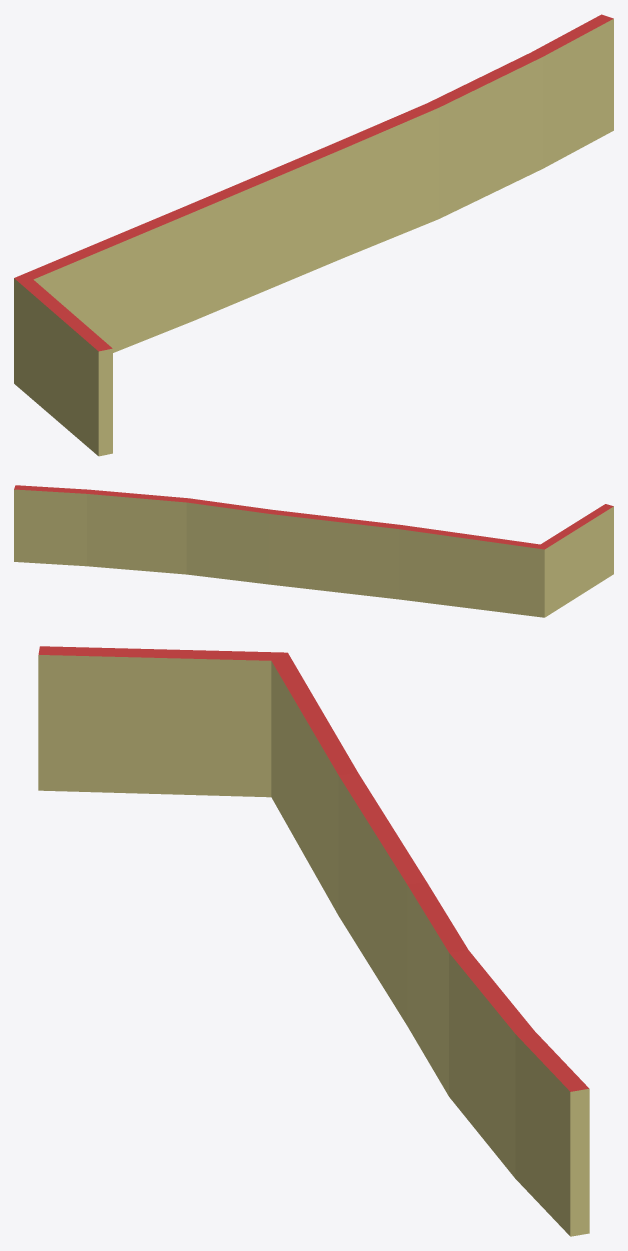
The picture shows the model from 3 angles, top to bottom: view 1: azimuth 30°, elevation 25°; view 2: azimuth 150°, elevation 25°; view 3: azimuth 270°, elevation 25°; orthographic projection. The views are drawn at different scales.
Size of the model in its own units: 45.96 by 23.54 by 6.83.
